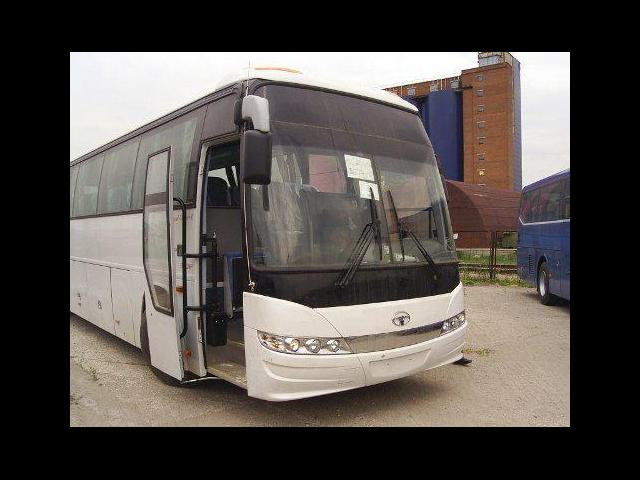bus: (70, 65, 469, 410)
